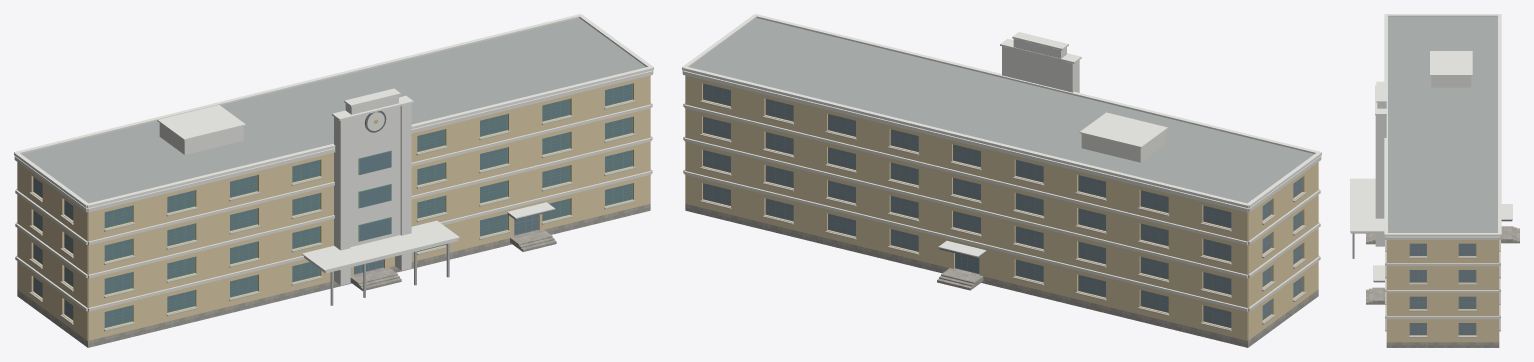
3 renders of one model, left to right at view 1: azimuth 30°, elevation 25°; view 2: azimuth 150°, elevation 25°; view 3: azimuth 270°, elevation 25°, orthographic. The views are drawn at different scales.
Parts seen in each view (by area): view 1: junganggwan__ochre, junganggwan__roof, junganggwan__glass, junganggwan__cap, junganggwan__panel, junganggwan__band, junganggwan__greenframe, junganggwan__stone, junganggwan__sill, junganggwan__sideglass, junganggwan__frame; view 2: junganggwan__ochre, junganggwan__roof, junganggwan__sideglass, junganggwan__band, junganggwan__cap, junganggwan__frame, junganggwan__stone, junganggwan__panel, junganggwan__sill; view 3: junganggwan__roof, junganggwan__ochre, junganggwan__cap, junganggwan__band, junganggwan__panel, junganggwan__sideglass, junganggwan__frame, junganggwan__stone, junganggwan__sill, junganggwan__threshold-north-rear, junganggwan__threshold-west-front, junganggwan__stair-north-rear (+1 smaller).
Boxes of the visible parts, x1,y1,x2,y2 form: junganggwan__ochre: (17,75,650,340); junganggwan__roof: (21,18,646,203); junganggwan__glass: (104,83,632,327); junganggwan__cap: (14,14,653,270); junganggwan__panel: (159,95,458,285); junganggwan__band: (14,70,653,311); junganggwan__greenframe: (104,83,632,327); junganggwan__stone: (17,204,650,347); junganggwan__sill: (29,100,635,331); junganggwan__sideglass: (34,177,73,319); junganggwan__frame: (33,177,538,320); junganggwan__ochre: (685,75,1318,340); junganggwan__roof: (689,18,1314,203); junganggwan__sideglass: (703,83,1301,327); junganggwan__band: (682,70,1321,311); junganggwan__cap: (682,14,1321,257); junganggwan__frame: (703,83,1302,327); junganggwan__stone: (685,204,1318,347); junganggwan__panel: (1002,39,1165,162); junganggwan__sill: (700,100,1306,331); junganggwan__roof: (1388,17,1497,232); junganggwan__ochre: (1386,240,1499,342); junganggwan__cap: (1350,14,1512,281); junganggwan__band: (1384,236,1501,319); junganggwan__panel: (1350,76,1471,246); junganggwan__sideglass: (1410,243,1475,334); junganggwan__frame: (1409,243,1476,335); junganggwan__stone: (1386,342,1499,347); junganggwan__sill: (1385,239,1500,337); junganggwan__threshold-north-rear: (1501,226,1510,243); junganggwan__threshold-west-front: (1375,287,1384,304); junganggwan__stair-north-rear: (1510,226,1519,243).
Bounding box in the file's own units: 62.54 × 19.45 × 20.35.
Materials: 16 (1 with a texture image).
